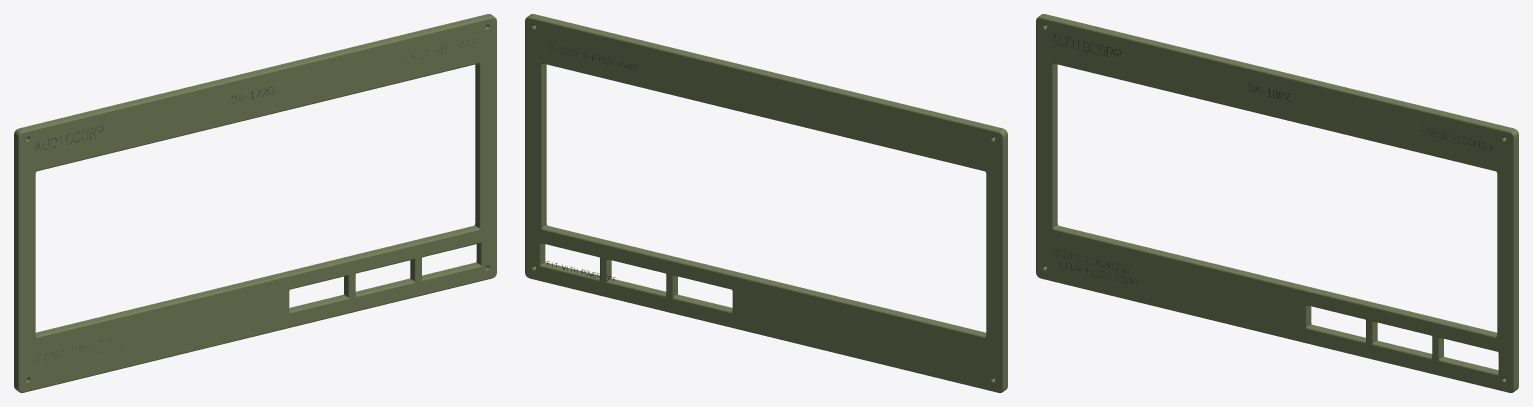
The model's file is faceplate-olive.glb.
3 renders of one model, left to right at view 1: azimuth 30°, elevation 25°; view 2: azimuth 150°, elevation 25°; view 3: azimuth 330°, elevation 25°, orthographic.
Visible parts, largest first — view 1: replacement-faceplate-with-eight-real-apertures; view 2: replacement-faceplate-with-eight-real-apertures; view 3: replacement-faceplate-with-eight-real-apertures.
Part boxes in pixels (<box>): replacement-faceplate-with-eight-real-apertures: <box>14,14,496,392</box>; replacement-faceplate-with-eight-real-apertures: <box>525,14,1007,392</box>; replacement-faceplate-with-eight-real-apertures: <box>1036,14,1518,392</box>.
Size of the model in its own units: 2.39 by 1.25 by 0.044.
